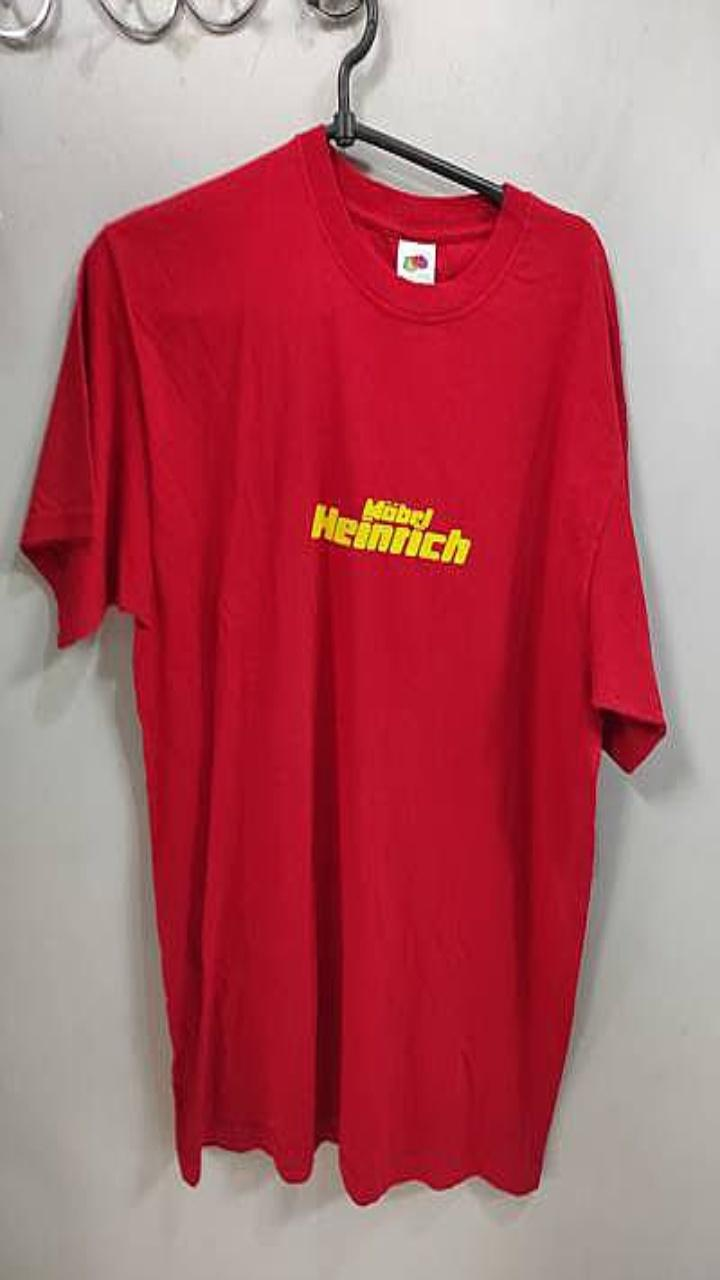T-Shirt: (20, 125, 665, 1203)
